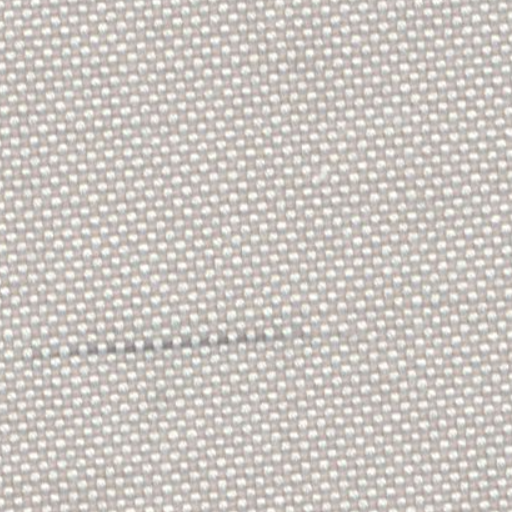WuZi: (37, 314, 304, 358)
